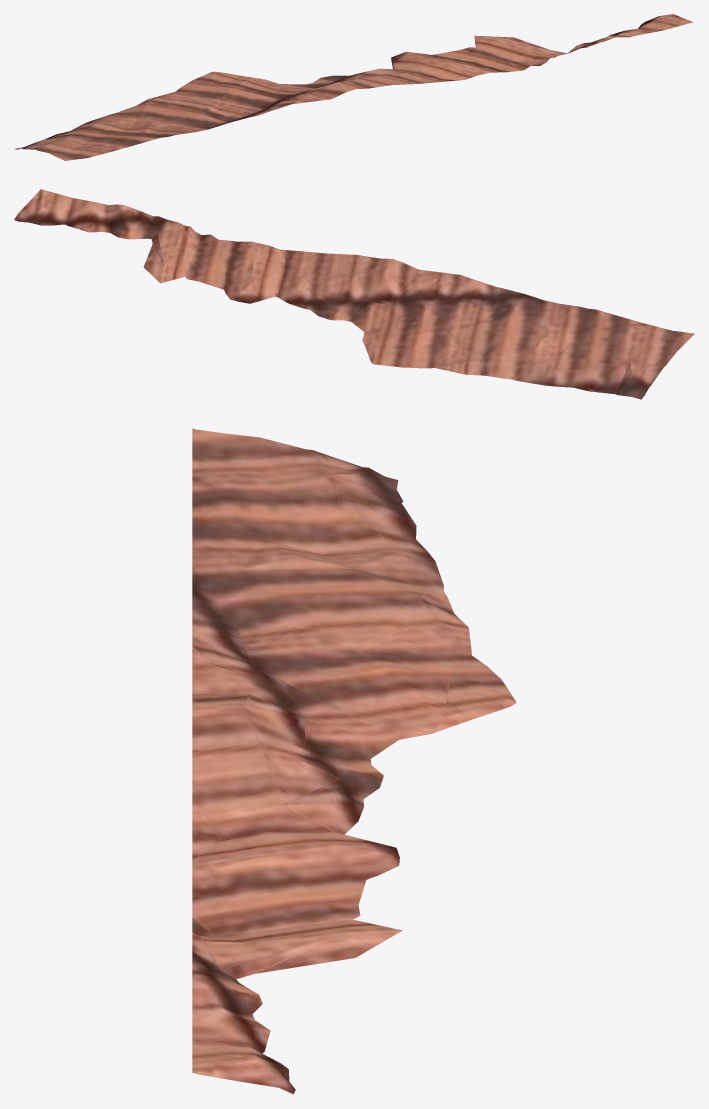
3 renders of one model, top to bottom at view 1: azimuth 30°, elevation 25°; view 2: azimuth 150°, elevation 25°; view 3: azimuth 270°, elevation 25°, orthographic. The views are drawn at different scales.
Size of the model in its own units: 1.67 by 0.0695 by 0.3733.
1 material, 1 textured.
